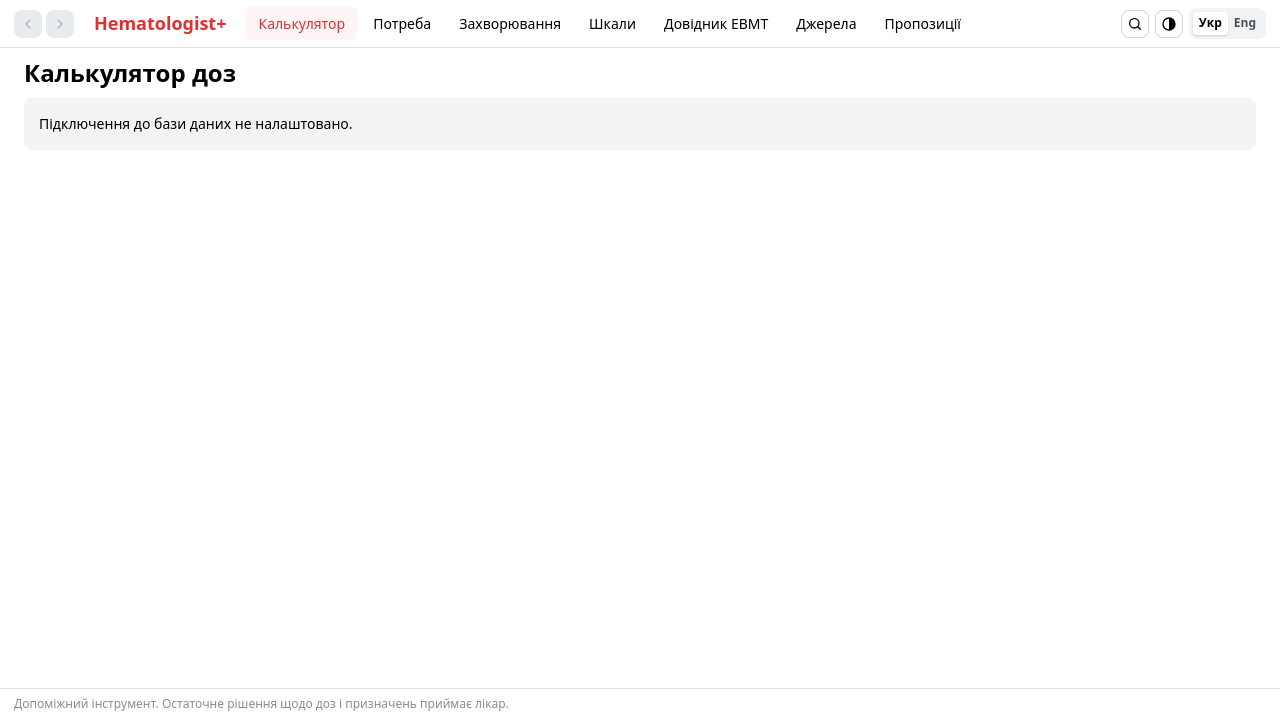
App shell › navigates to the diseases page
Click the link "Захворювання" at {"x": 510, "y": 23}, box top-left (459, 14), bottom-right (561, 33)
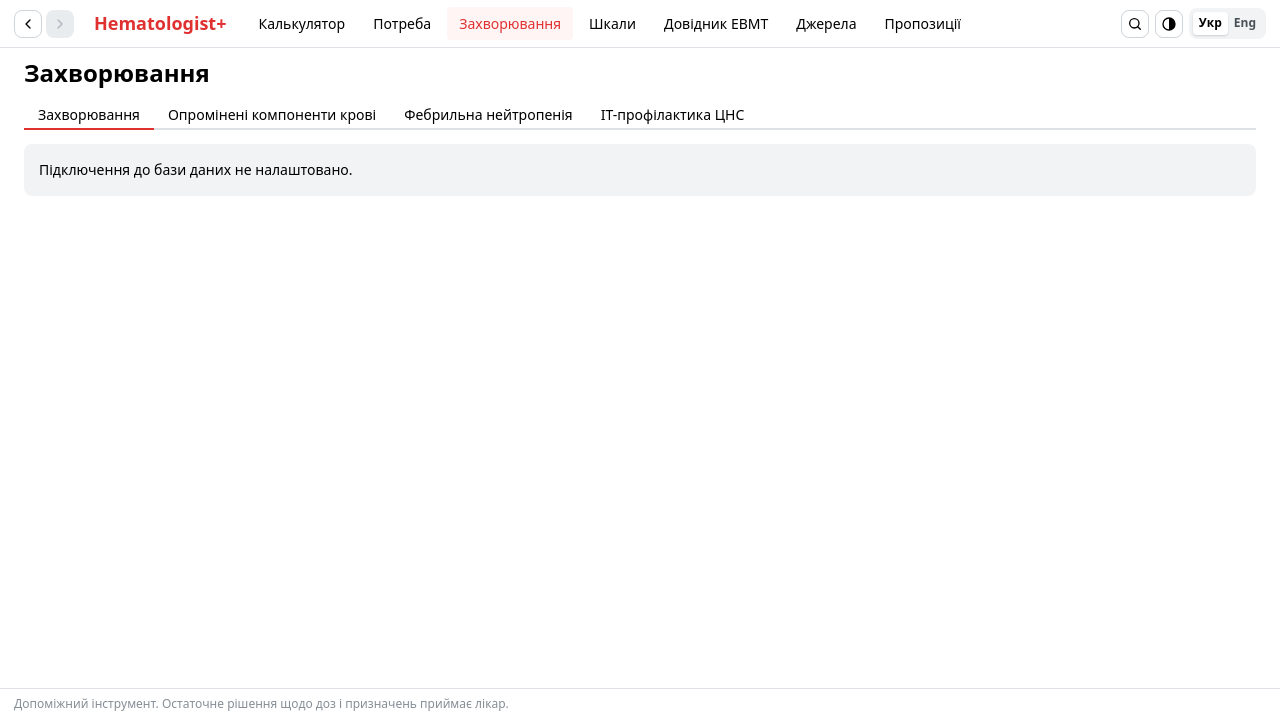
Result: the heading "Захворювання" is shown at top-left (24, 56), bottom-right (210, 89)
